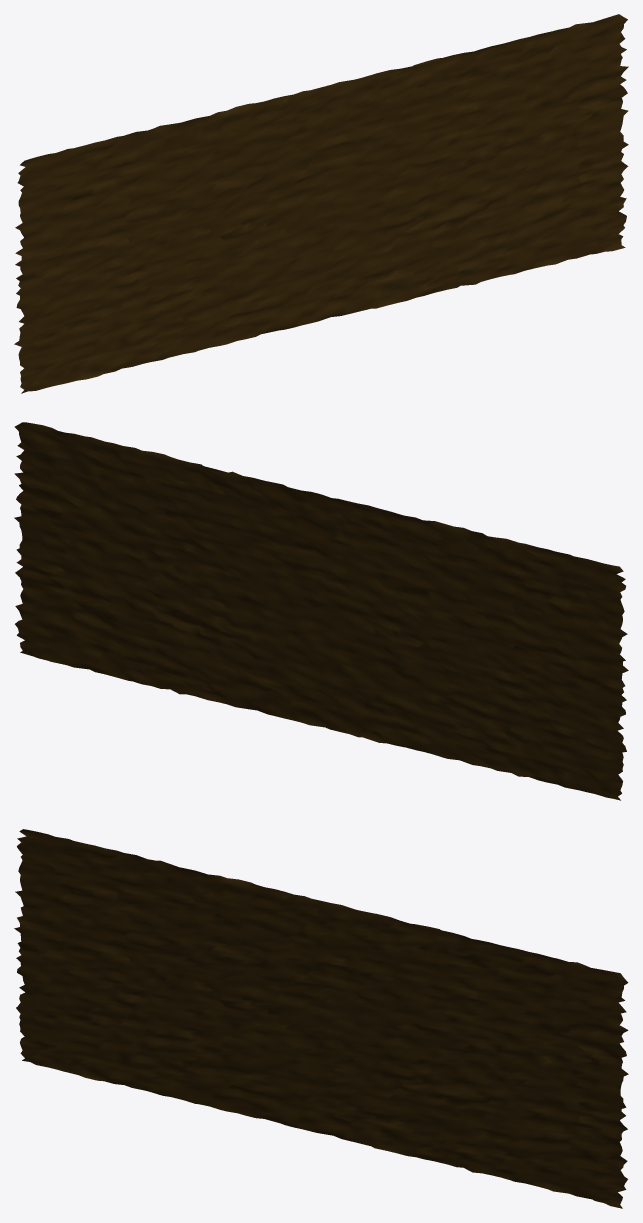
Rendered from 1-2.3haikei.fbx.
3 renders of one model, top to bottom at view 1: azimuth 30°, elevation 25°; view 2: azimuth 150°, elevation 25°; view 3: azimuth 330°, elevation 25°, orthographic.
Visible parts, largest first — view 1: Plane; view 2: Plane; view 3: Plane.
Boxes of the visible parts, x1,y1,x2,y2 form: Plane: [14, 14, 628, 393]; Plane: [14, 422, 628, 800]; Plane: [14, 829, 628, 1208].
Bounding box in the file's own units: 4090 × 1494 × 34.32.
